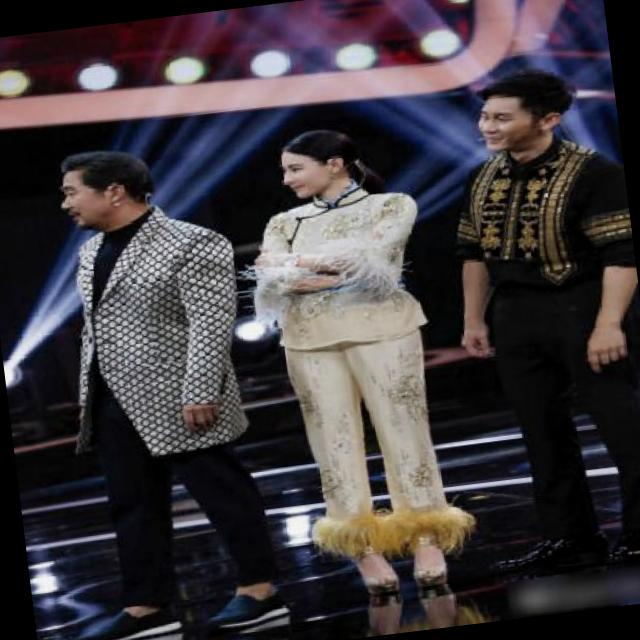Person: (0, 101, 331, 640), (192, 75, 510, 622), (406, 28, 640, 613)
